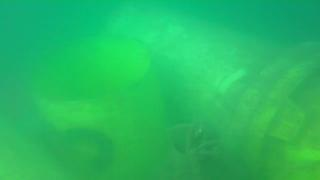3: (55, 126, 114, 180)
pipe: (103, 3, 320, 180), (31, 35, 170, 180), (1, 117, 64, 180)
